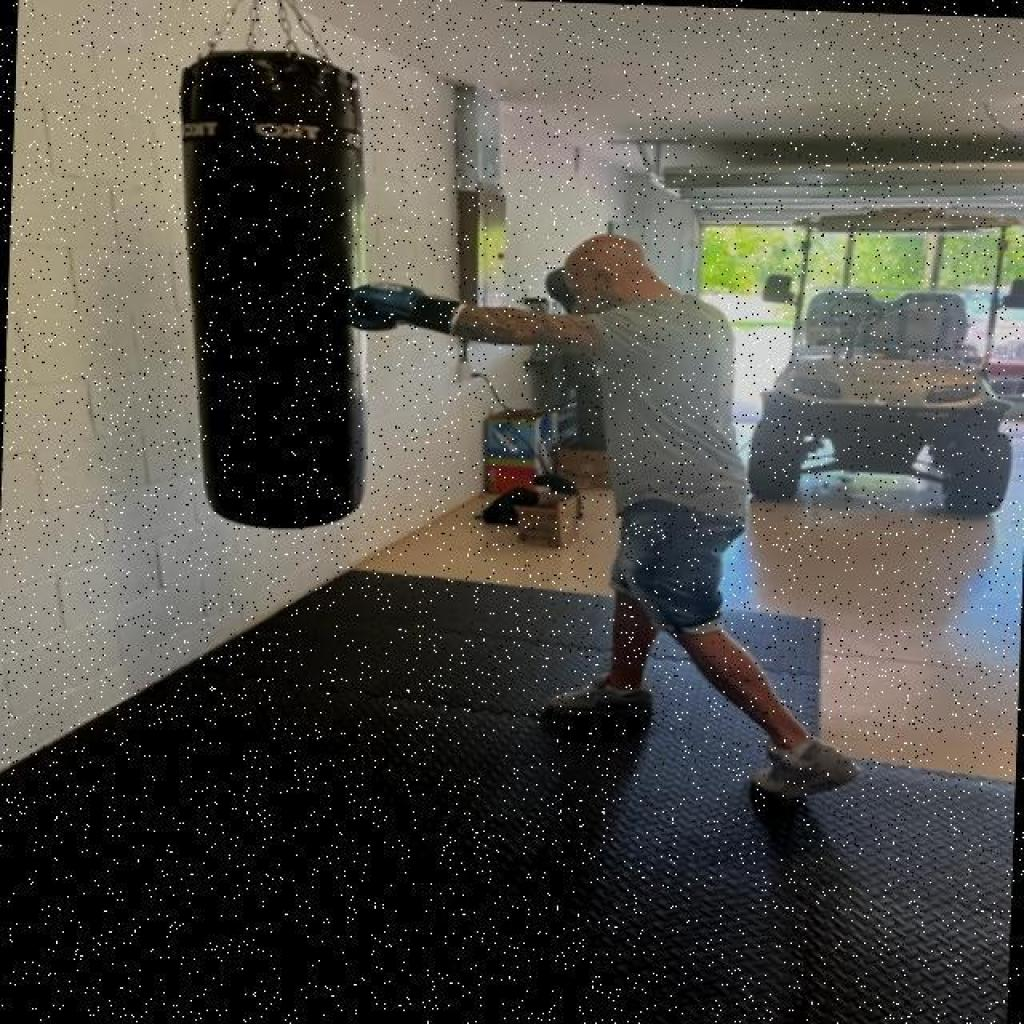cross: (274, 214, 740, 376)
